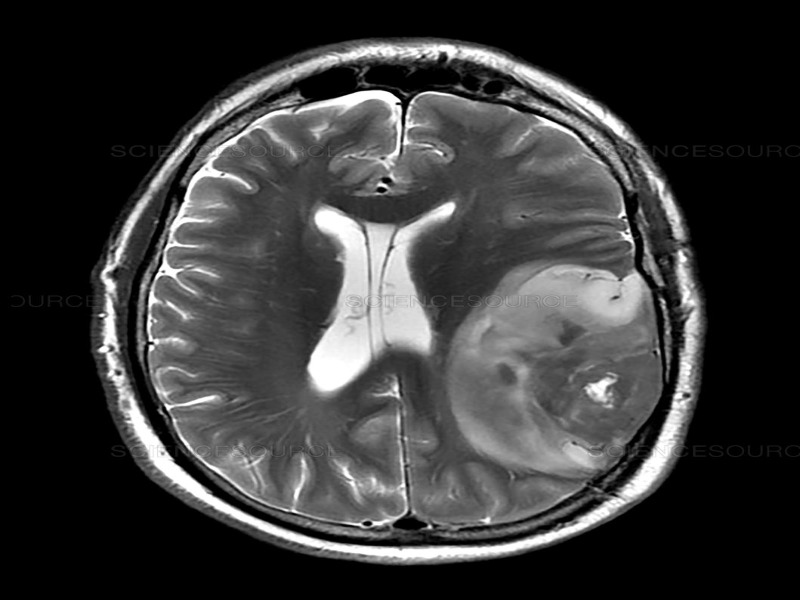tumor: (284, 184, 461, 414)
